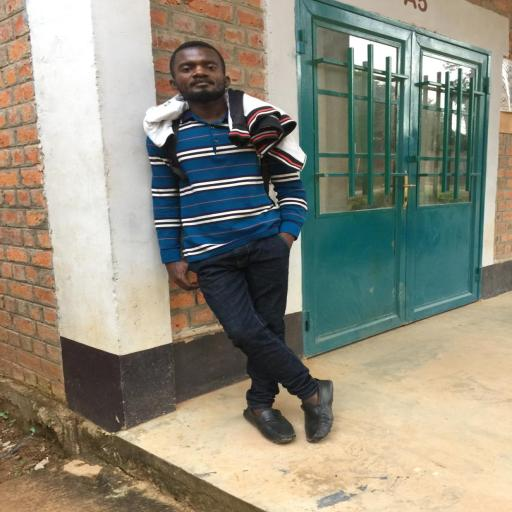MATTHIEU: (164, 43, 240, 105)
